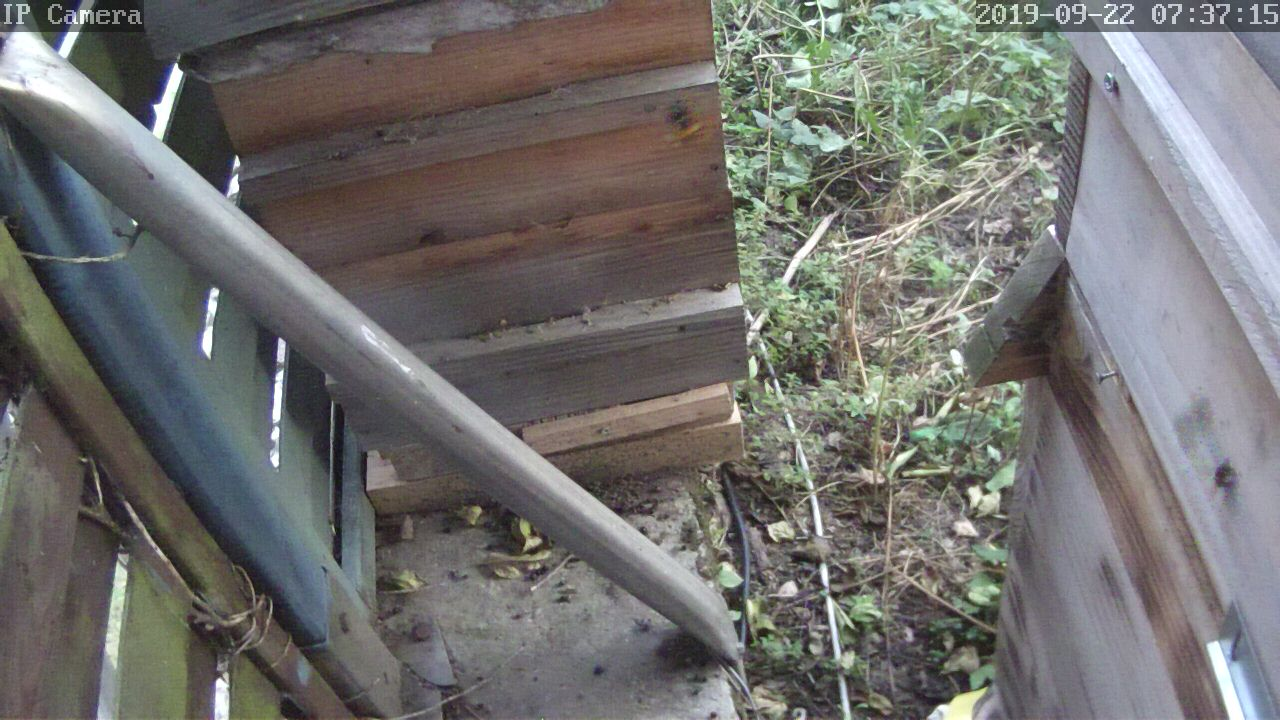hornet: (653, 89, 698, 141)
